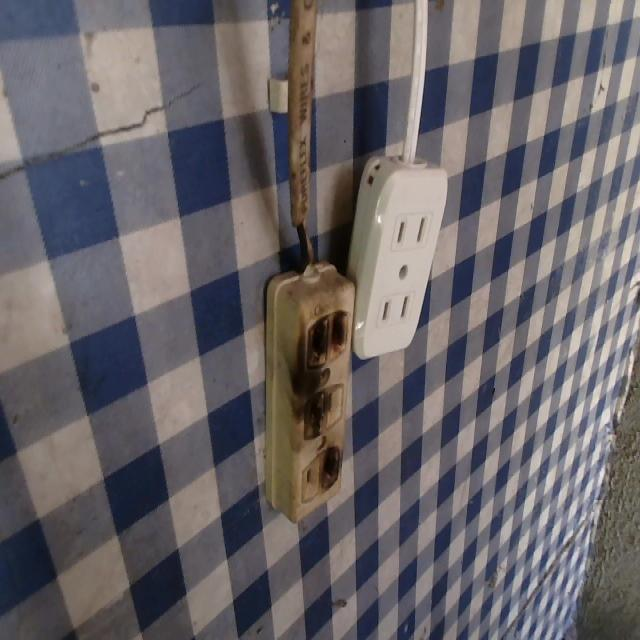-: (303, 304, 352, 365), (297, 389, 332, 443), (314, 441, 344, 488)
